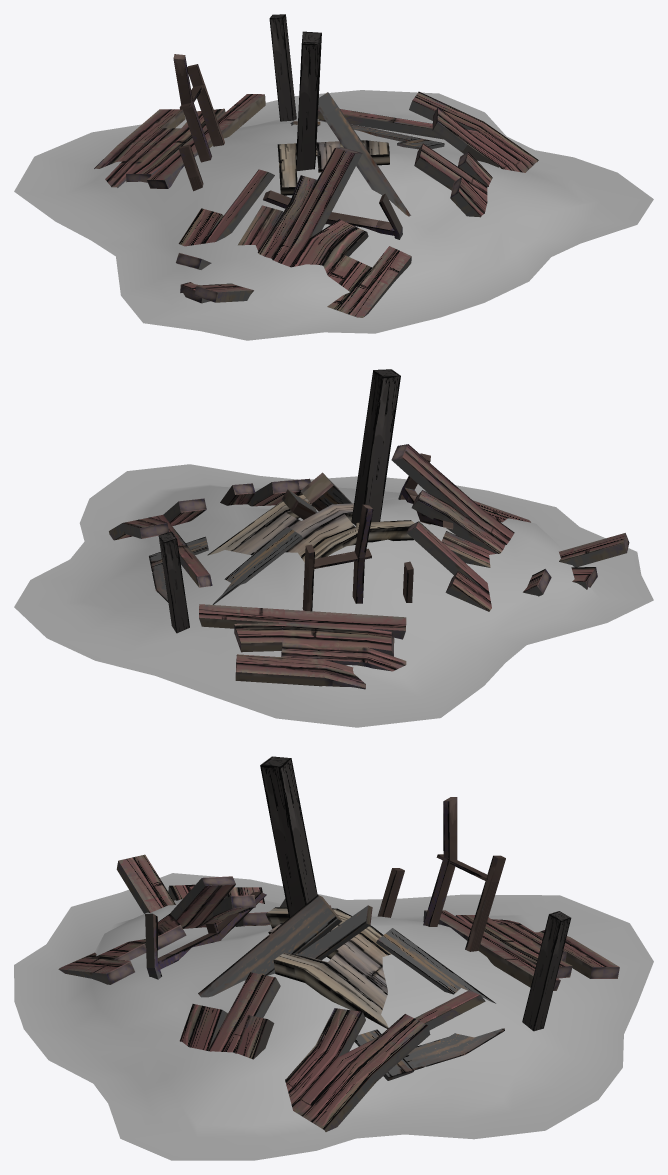
File: RubblePile_Large.fbx
3 renders of one model, top to bottom at view 1: azimuth 30°, elevation 25°; view 2: azimuth 150°, elevation 25°; view 3: azimuth 270°, elevation 25°, orthographic. The views are drawn at different scales.
Parts seen in each view (by area): view 1: RubblePile_Large, RChunk_09, RChunk_11, RChunk_05, RChunk_02, RChunk_03, RChunk_04, RChunk_07, RChunk_08, RChunk_06, RChunk_01, RChunk_10; view 2: RubblePile_Large, RChunk_05, RChunk_09, RChunk_07, RChunk_03, RChunk_11, RChunk_02, RChunk_10, RChunk_06, RChunk_08, RChunk_04, RChunk_01; view 3: RubblePile_Large, RChunk_11, RChunk_07, RChunk_09, RChunk_04, RChunk_05, RChunk_03, RChunk_10, RChunk_02, RChunk_08, RChunk_06, RChunk_01.
Boxes of the visible parts, box(x1,y1,x2,y2) form: RubblePile_Large: box(14, 90, 653, 340); RChunk_09: box(178, 147, 411, 317); RChunk_11: box(318, 91, 538, 217); RChunk_05: box(94, 94, 265, 188); RChunk_02: box(173, 54, 224, 191); RChunk_03: box(296, 31, 321, 170); RChunk_04: box(318, 92, 410, 216); RChunk_07: box(277, 140, 389, 195); RChunk_08: box(269, 14, 296, 121); RChunk_06: box(176, 253, 253, 303); RChunk_01: box(263, 190, 402, 239); RChunk_10: box(290, 119, 444, 149); RubblePile_Large: box(14, 464, 653, 727); RChunk_05: box(199, 604, 406, 689); RChunk_09: box(391, 444, 530, 611); RChunk_07: box(207, 494, 414, 562); RChunk_03: box(351, 369, 400, 525); RChunk_11: box(109, 478, 310, 587); RChunk_02: box(302, 504, 413, 611); RChunk_10: box(149, 526, 302, 604); RChunk_06: box(523, 533, 629, 596); RChunk_08: box(158, 531, 189, 633); RChunk_04: box(281, 472, 351, 519); RChunk_01: box(398, 453, 453, 529); RubblePile_Large: box(14, 873, 653, 1160); RChunk_11: box(179, 972, 485, 1131); RChunk_07: box(265, 907, 391, 1028); RChunk_09: box(58, 876, 331, 984); RChunk_04: box(198, 895, 372, 997); RChunk_05: box(423, 910, 619, 990); RChunk_03: box(260, 756, 317, 917); RChunk_10: box(354, 928, 504, 1080); RChunk_02: box(377, 797, 505, 951); RChunk_08: box(522, 911, 571, 1031); RChunk_06: box(116, 854, 264, 913); RChunk_01: box(145, 892, 266, 979).
Bounding box in the file's own units: 27.35 × 11.02 × 25.72.
